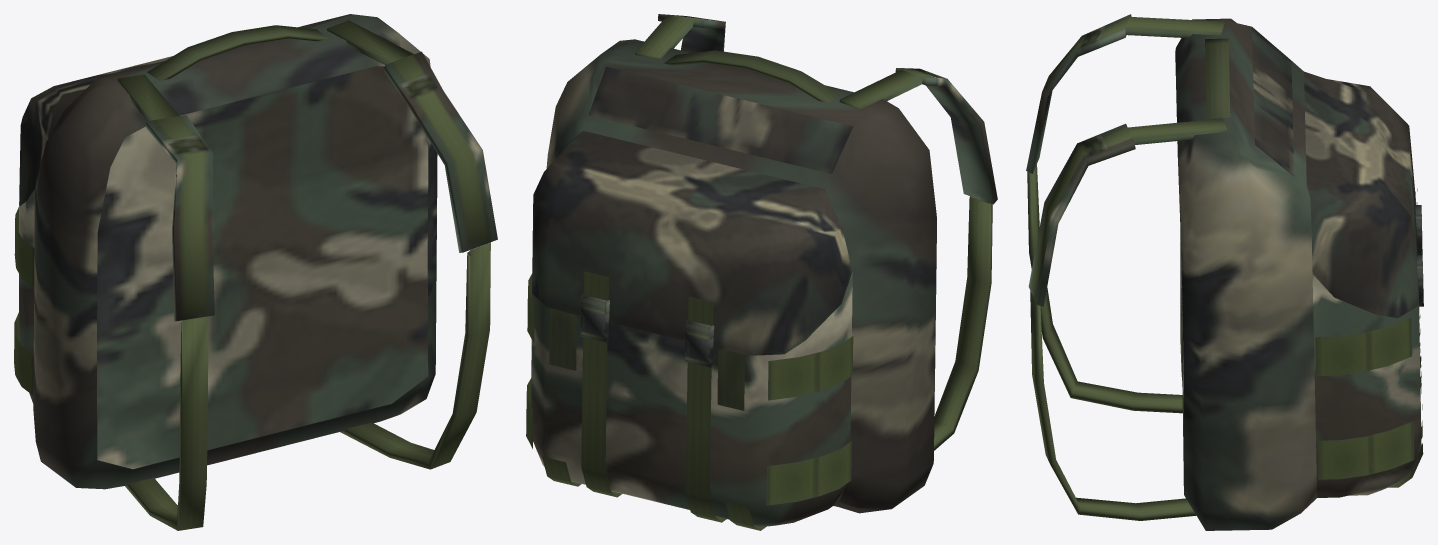
Rendered from PatrolPack_WorldItem.fbx.
3 renders of one model, left to right at view 1: azimuth 30°, elevation 25°; view 2: azimuth 150°, elevation 25°; view 3: azimuth 270°, elevation 25°, orthographic. The views are drawn at different scales.
Visible parts, largest first — view 1: Circle.009_Circle.009_Circle.009_Circle.057; view 2: Circle.009_Circle.009_Circle.009_Circle.057; view 3: Circle.009_Circle.009_Circle.009_Circle.057.
Part boxes in pixels (x1=…): Circle.009_Circle.009_Circle.009_Circle.057: x1=14, y1=14, x2=497, y2=530; Circle.009_Circle.009_Circle.009_Circle.057: x1=526, y1=14, x2=997, y2=530; Circle.009_Circle.009_Circle.009_Circle.057: x1=1026, y1=14, x2=1423, y2=530.
Size of the model in its own units: 0.4547 by 0.4899 by 0.442.
